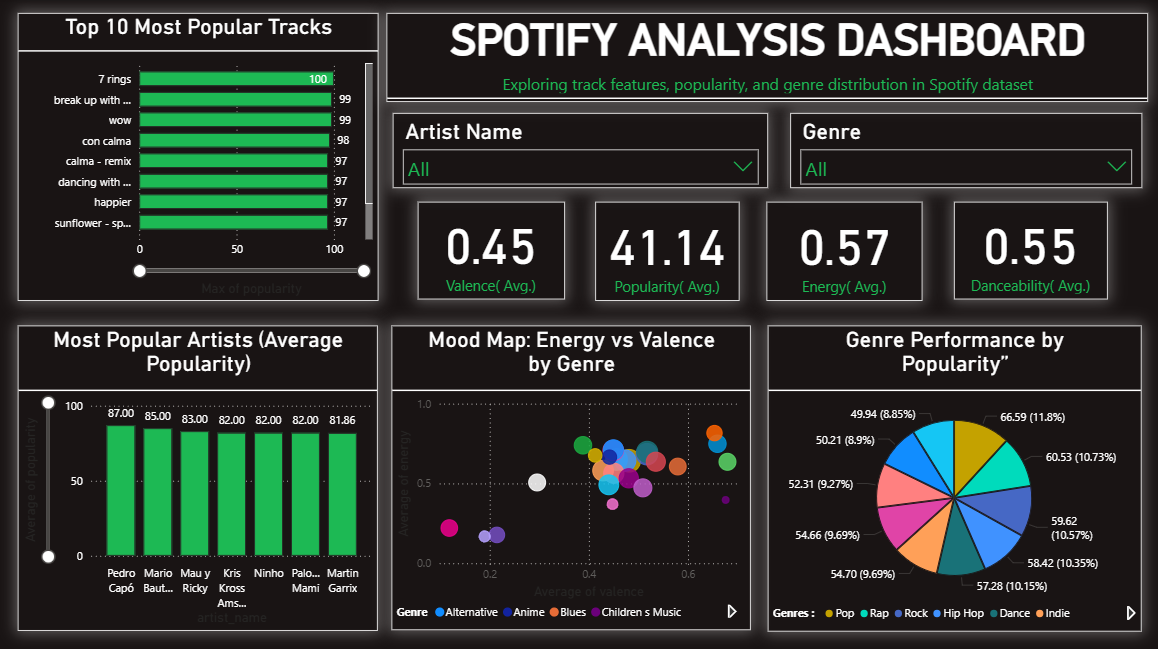

The page's visual inventory and layout, read from the dashboard file:
{"tool":"powerbi","page":{"name":"Page 1","canvas":[1280,720],"ordinal":0},"visuals":[{"type":"barChart","title":"Top 10 Most Popular Tracks","fields":{"Category":["spotify_preprocessed.track_name"],"Y":["Max(spotify_preprocessed.popularity)"]},"box":[20,16,396,316],"z":0},{"type":"clusteredColumnChart","title":"Most Popular Artists (Average Popularity)","fields":{"Category":["spotify_preprocessed.artist_name"],"Y":["Avg(spotify_preprocessed.popularity)"]},"box":[20,360,395,335],"z":1000},{"type":"pieChart","title":"Genre Performance by Popularity”","fields":{"Category":["spotify_preprocessed.Genre"],"Y":["Avg(spotify_preprocessed.popularity)"]},"box":[844,360,410,336],"z":2000},{"type":"scatterChart","title":"Mood Map: Energy vs Valence by Genre","fields":{"X":["Avg(spotify_preprocessed.valence)"],"Y":["Avg(spotify_preprocessed.energy)"],"Size":["Avg(spotify_preprocessed.popularity)"],"Series":["spotify_preprocessed.Genre"]},"box":[431.4,360,394.3,334.3],"z":3000},{"type":"card","fields":{"Values":["Avg(spotify_preprocessed.danceability)"]},"box":[1048.6,224.3,168.6,107.1],"z":4000},{"type":"card","fields":{"Values":["Avg(spotify_preprocessed.energy)"]},"box":[842.9,224.3,171.4,108.6],"z":5000},{"type":"card","fields":{"Values":["Avg(spotify_preprocessed.valence)"]},"box":[460,224.3,161.4,107.1],"z":6000},{"type":"card","fields":{"Values":["Avg(spotify_preprocessed.popularity)"]},"box":[654.3,224.3,158.6,108.6],"z":7000},{"type":"slicer","fields":{"Values":["spotify_preprocessed.Genre"]},"box":[868,126,386,82],"z":8000},{"type":"slicer","fields":{"Values":["spotify_preprocessed.artist_name"]},"box":[432,126,412,82],"z":9000},{"type":"textbox","title":"SPOTIFY ANALYSIS DASHBOARD","box":[432,16,836,90],"z":10000}]}

Visuals, with their boxes in screenshot pixels (x1, y1, x2, y2), scaled from the page's 1280x720 canvas onto the 1158x649 screenshot:
"Top 10 Most Popular Tracks" barChart: l=18, t=14, r=376, b=299
"Most Popular Artists (Average Popularity)" clusteredColumnChart: l=18, t=324, r=375, b=626
"Genre Performance by Popularity”" pieChart: l=764, t=324, r=1134, b=627
"Mood Map: Energy vs Valence by Genre" scatterChart: l=390, t=324, r=747, b=626
card - Avg(spotify_preprocessed.danceability): l=949, t=202, r=1101, b=299
card - Avg(spotify_preprocessed.energy): l=763, t=202, r=918, b=300
card - Avg(spotify_preprocessed.valence): l=416, t=202, r=562, b=299
card - Avg(spotify_preprocessed.popularity): l=592, t=202, r=735, b=300
slicer - spotify_preprocessed.Genre: l=785, t=114, r=1134, b=187
slicer - spotify_preprocessed.artist_name: l=391, t=114, r=764, b=187
"SPOTIFY ANALYSIS DASHBOARD" textbox: l=391, t=14, r=1147, b=96
